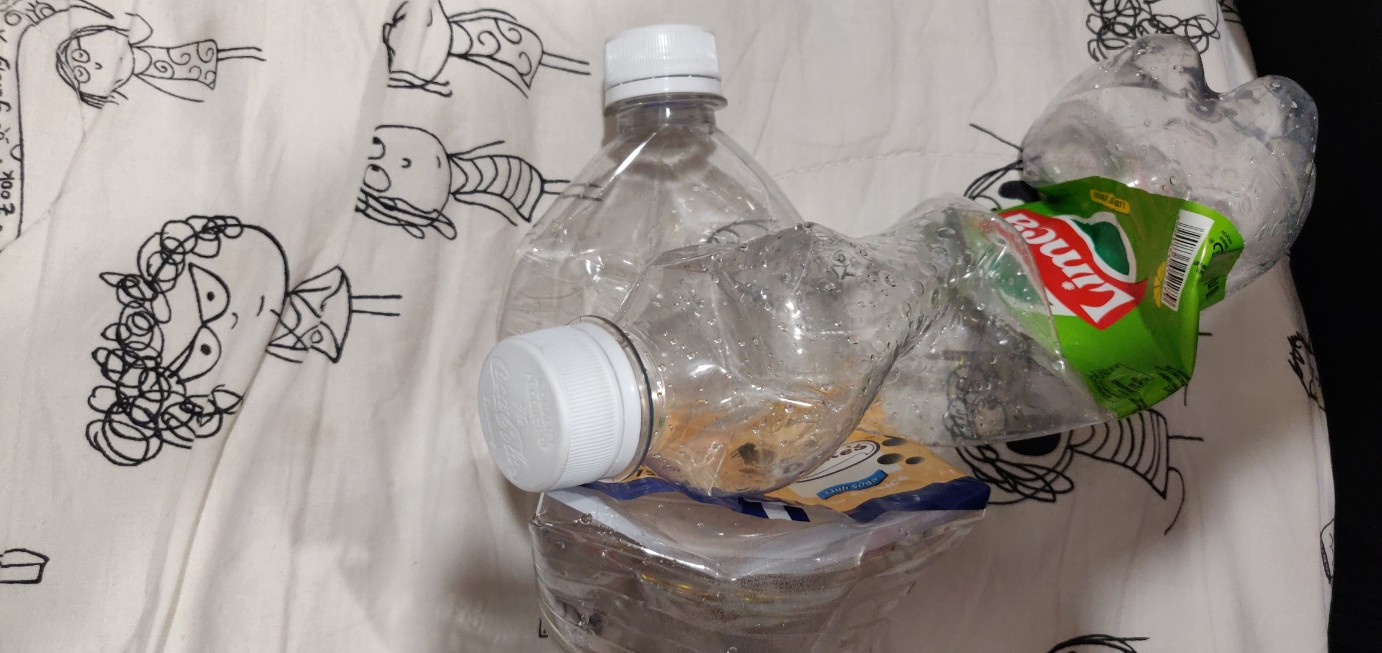Electronics: (444, 17, 1370, 541), (483, 10, 989, 653)
